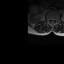CCS_normal: (51, 16, 53, 23)
LFS_normal: (55, 16, 56, 22)
LLS_normal: (53, 16, 55, 22)
RFS_normal: (48, 16, 50, 21)
RLS_normal: (50, 16, 51, 22)
